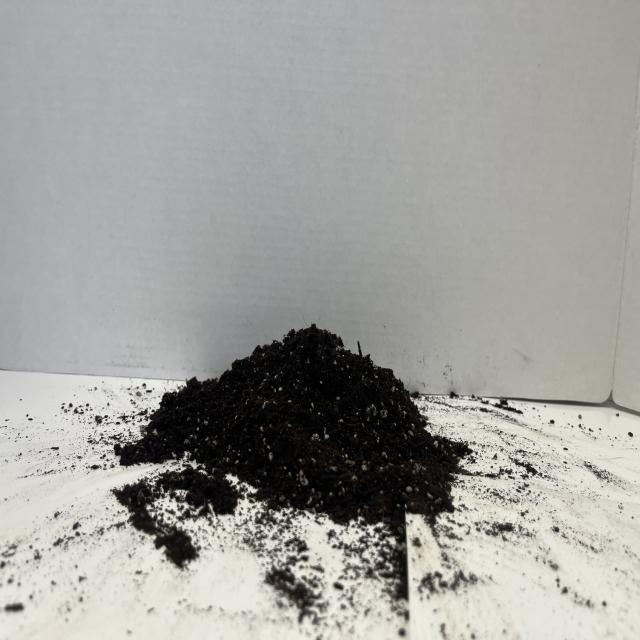soil: (117, 324, 494, 549)
